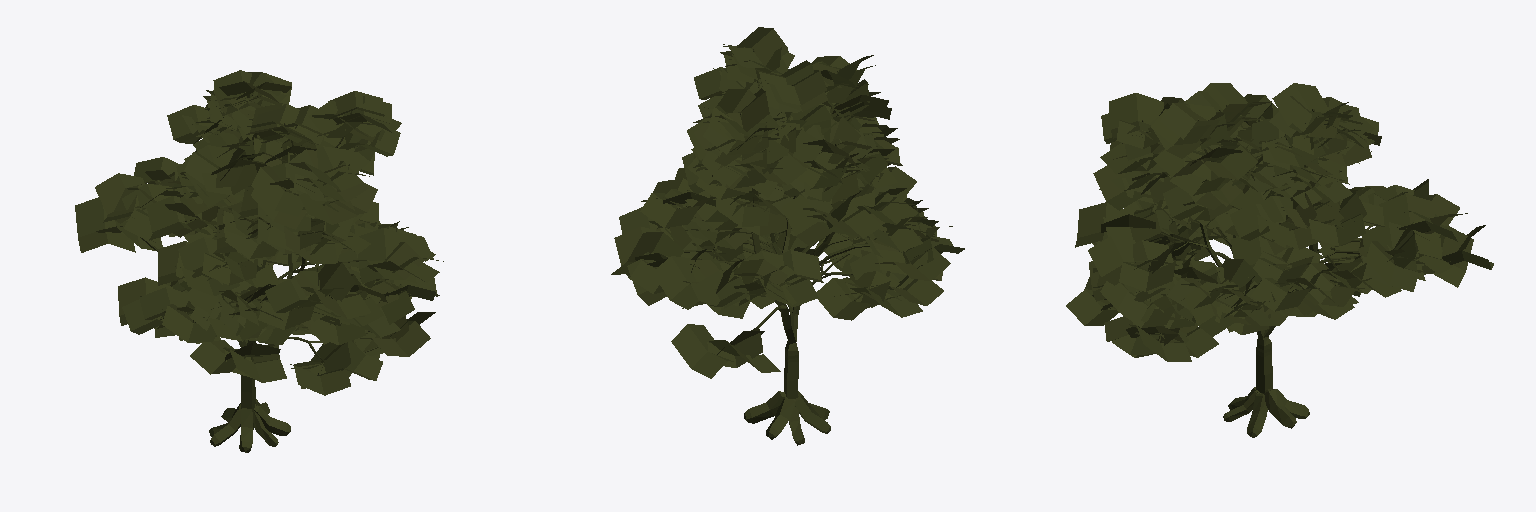
The model's file is tree_1.obj.
3 views of the same model, side by side, from view 1: azimuth 30°, elevation 25°; view 2: azimuth 150°, elevation 25°; view 3: azimuth 270°, elevation 25° (orthographic).
Parts seen in each view (by area): view 1: Sonnerat; view 2: Sonnerat; view 3: Sonnerat.
Boxes of the visible parts, box(x1,y1,x2,y2) form: Sonnerat: box(75, 70, 443, 452); Sonnerat: box(611, 27, 964, 445); Sonnerat: box(1066, 83, 1493, 437).
Size of the model in its own units: 0.9316 by 1.07 by 1.18.